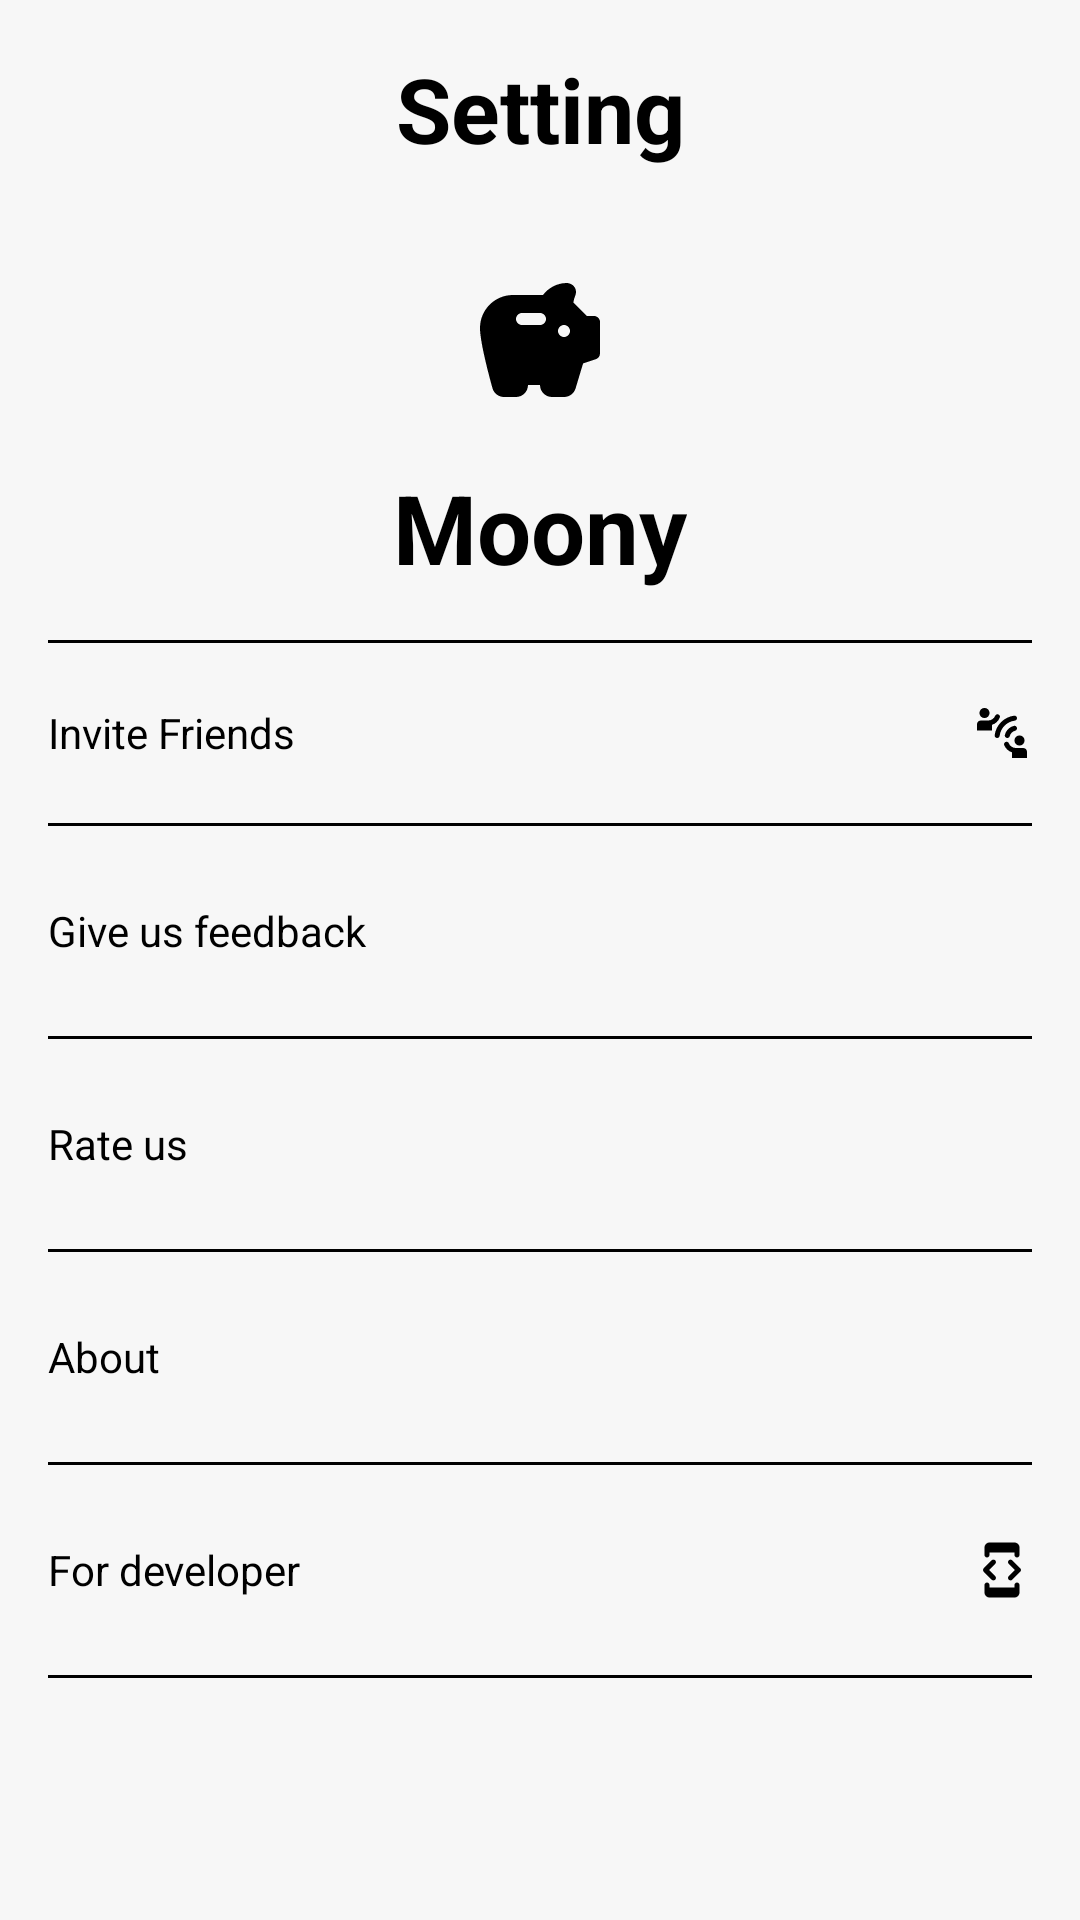

Named icons in this screenshot (1080x1920) and their bounding boxes, (x1, y1, x2, y2):
dev: (983, 1542, 1021, 1598)
saving: (480, 283, 600, 397)
